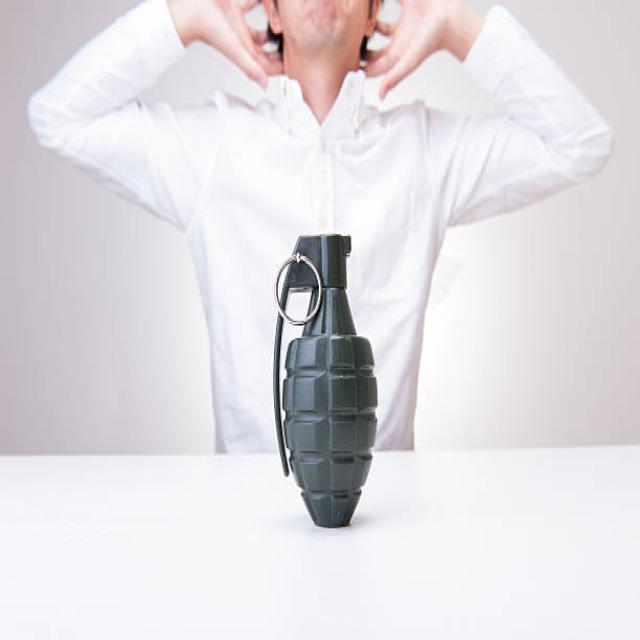grenade: (268, 228, 383, 531)
